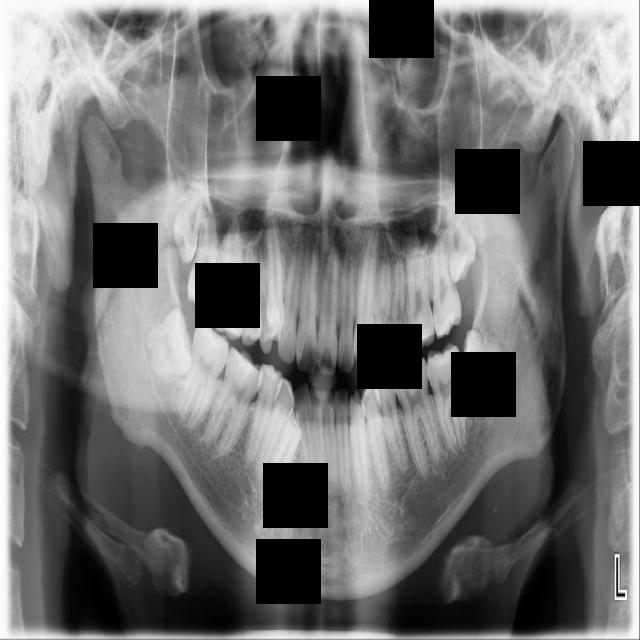3M ESPE Implant: (167, 174, 211, 266)
73: (600, 578, 608, 588)
BioHorizons Implant: (425, 229, 464, 340)
BioLife Implant: (441, 187, 482, 287)
Caries: (185, 212, 220, 318)
Implant: (172, 318, 235, 435), (424, 341, 470, 455)
Keystone Dental Implant: (140, 306, 199, 382), (454, 329, 511, 406)
